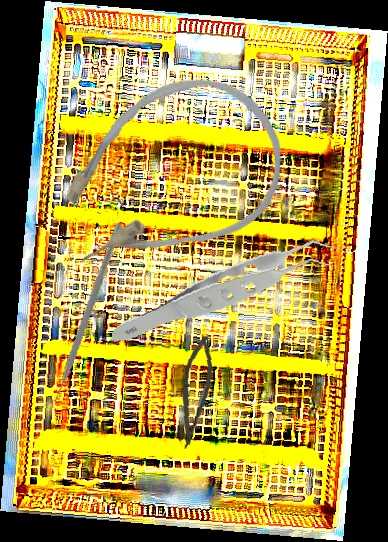Cannula: (26, 50, 308, 301)
Chopper: (5, 221, 156, 410)
Micro Scissor: (176, 333, 217, 452)
Tissue Forceps: (110, 209, 350, 380)
